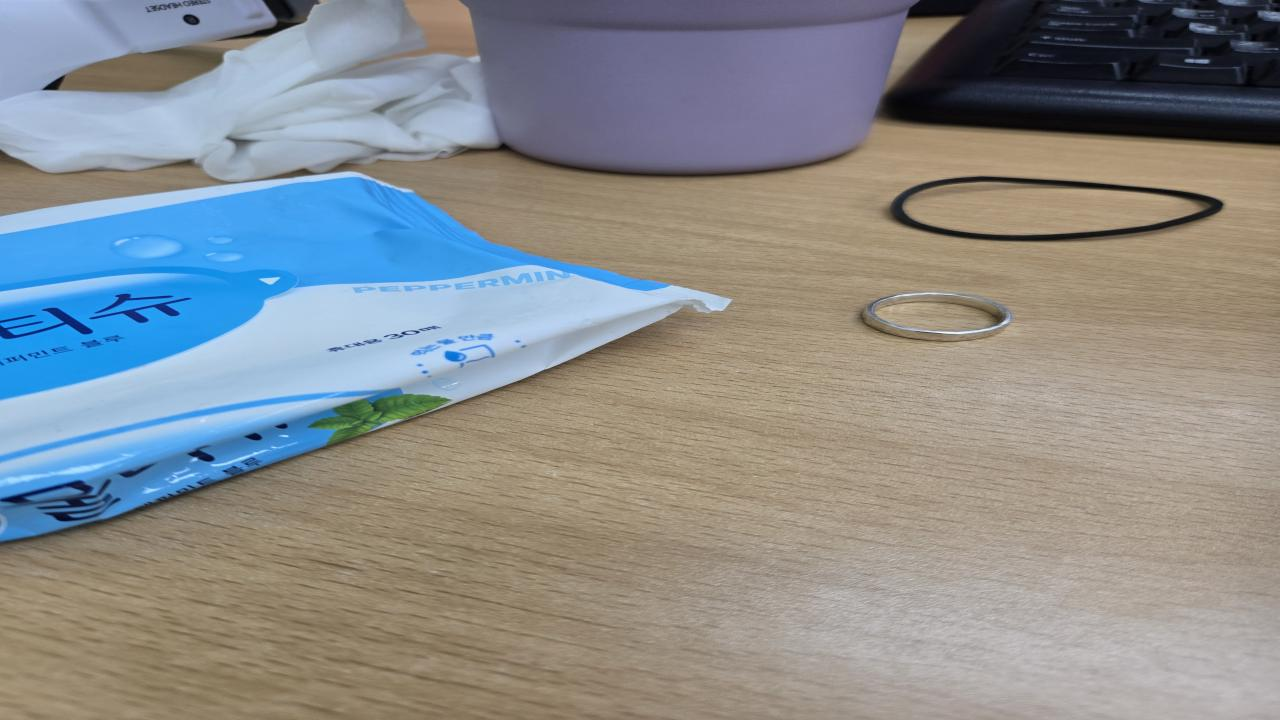ring: (858, 289, 1016, 342)
